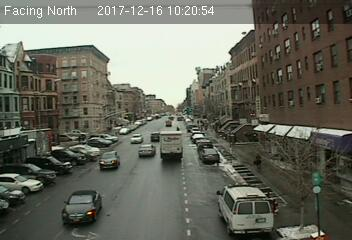car: (61, 190, 102, 224), (99, 151, 121, 169), (201, 148, 221, 164), (138, 142, 156, 158), (129, 133, 143, 145)
police: (216, 180, 275, 234)
truck: (158, 128, 184, 164)
